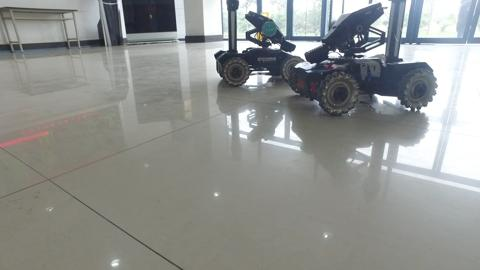chariot: (289, 1, 440, 113), (213, 2, 308, 86)
